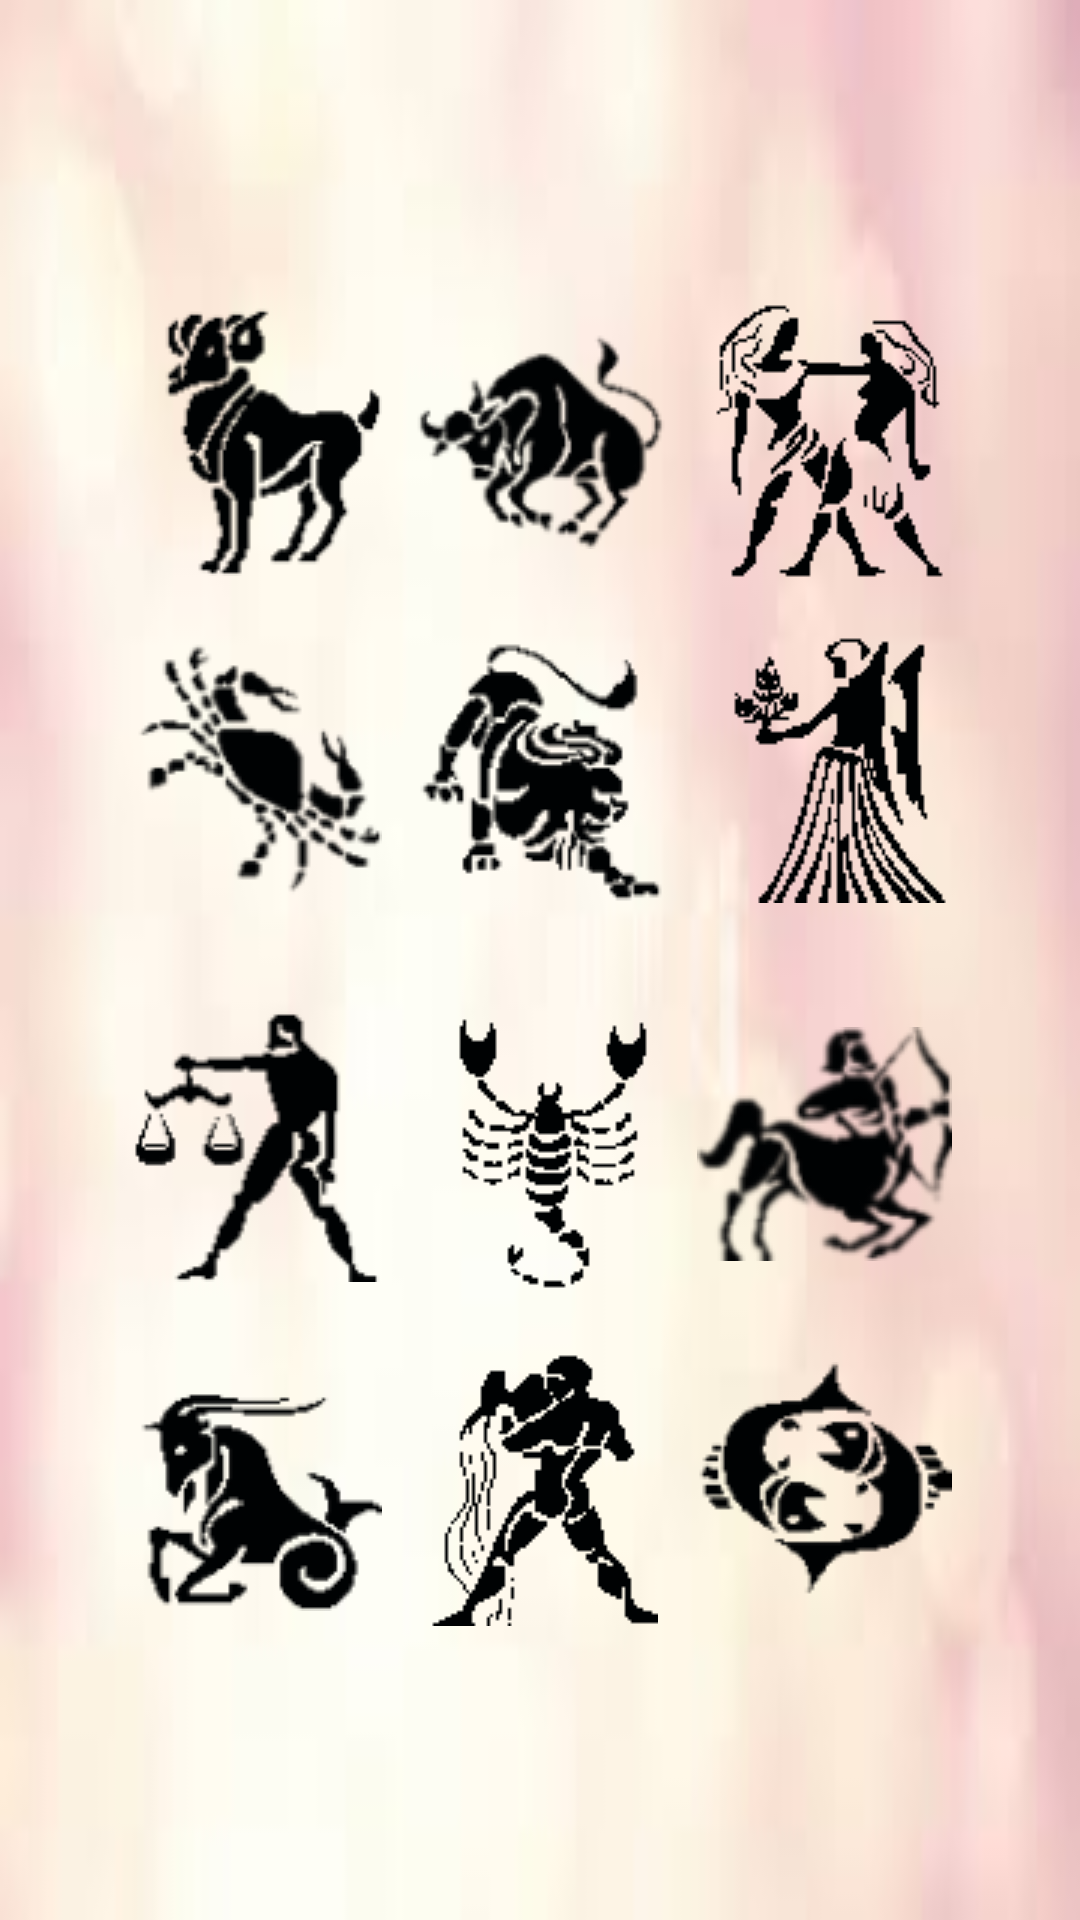

Screen size 1080px x 1920px. Icon name, then its box in pixels as detection(x1, y1, x2, y2):
aqua: detection(432, 1355, 658, 1626)
bull: detection(420, 327, 667, 594)
cancer: detection(141, 646, 382, 892)
leo: detection(423, 644, 661, 900)
maiden: detection(720, 630, 952, 948)
pisces: detection(699, 1317, 952, 1602)
ram: detection(156, 300, 380, 574)
sagi select: detection(697, 982, 952, 1261)
scales: detection(135, 1014, 377, 1282)
scorpio: detection(459, 1019, 647, 1288)
seagoat: detection(142, 1394, 382, 1611)
twins: detection(690, 294, 952, 627)
